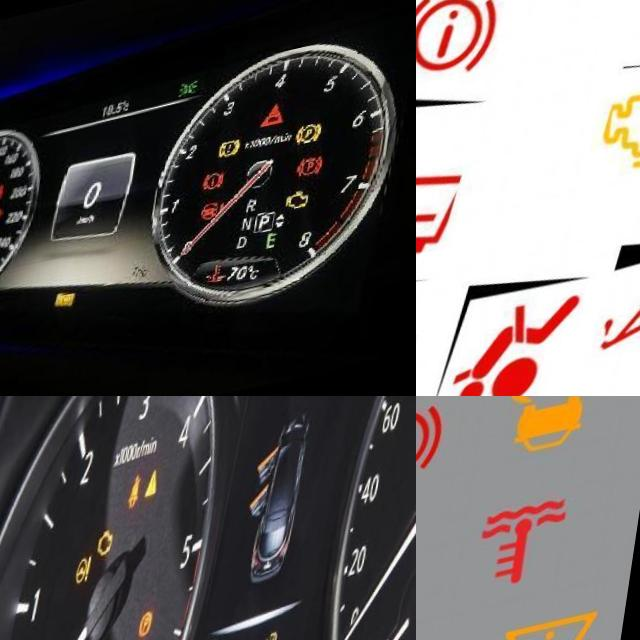Electronic Power Steering: (80, 559, 99, 591)
Engine cooling system: (215, 280, 240, 304)
Seat Belt: (131, 481, 147, 517)
